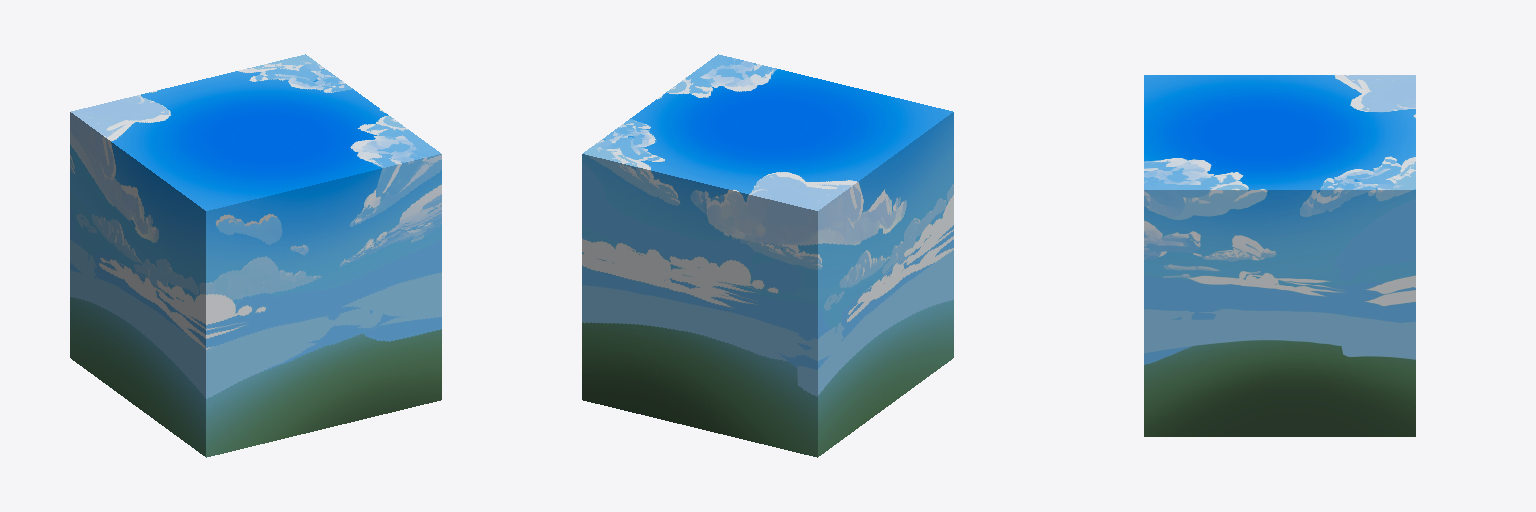
3 views of the same model, side by side, from view 1: azimuth 30°, elevation 25°; view 2: azimuth 150°, elevation 25°; view 3: azimuth 270°, elevation 25° (orthographic).
Visible parts, largest first — view 1: Cube; view 2: Cube; view 3: Cube.
Part boxes in pixels (x1,y1,x2,y2): Cube: (70, 54, 441, 457); Cube: (582, 54, 953, 457); Cube: (1144, 75, 1415, 436).
Size of the model in its own units: 2.01 by 2.01 by 2.01.
1 materials, 1 textured.